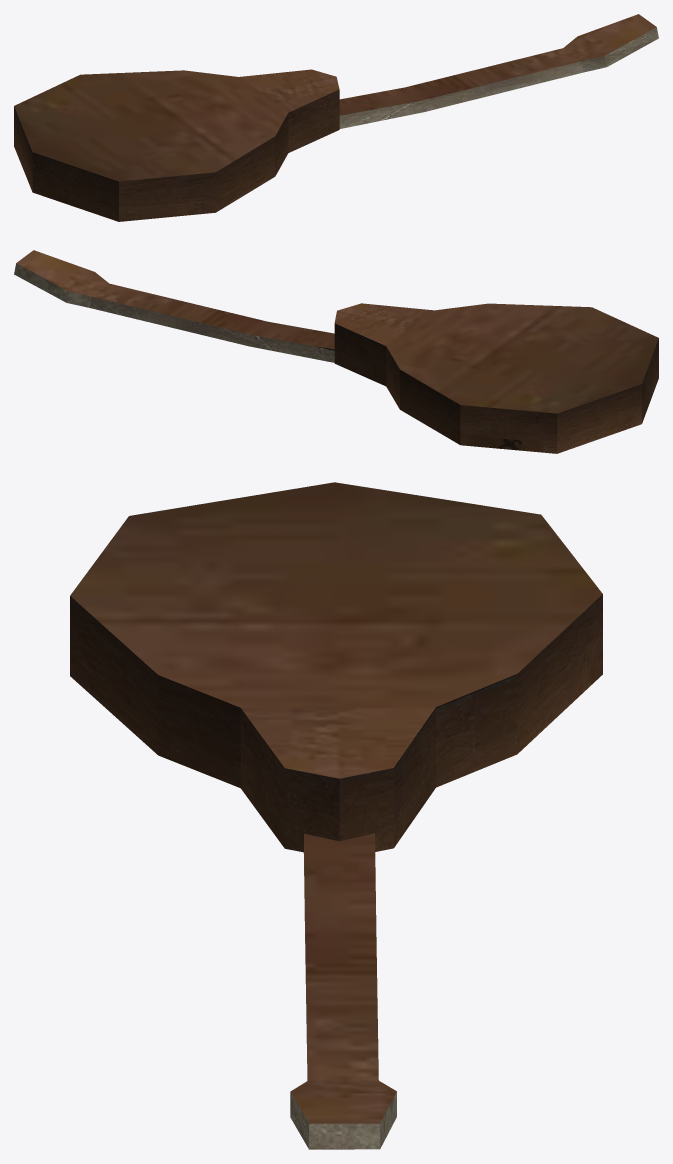
The model's file is LUTNIAAA.glb.
3 views of the same model, one above another, from view 1: azimuth 30°, elevation 25°; view 2: azimuth 150°, elevation 25°; view 3: azimuth 270°, elevation 25° (orthographic). The views are drawn at different scales.
Visible parts, largest first — view 1: LUTNIAAA; view 2: LUTNIAAA; view 3: LUTNIAAA.
Boxes of the visible parts, bbox=[...] form: LUTNIAAA: bbox=[14, 14, 658, 221]; LUTNIAAA: bbox=[14, 250, 658, 453]; LUTNIAAA: bbox=[70, 482, 602, 1149].
Size of the model in its own units: 1.11 by 0.0826 by 0.4138.
1 material, 1 textured.
